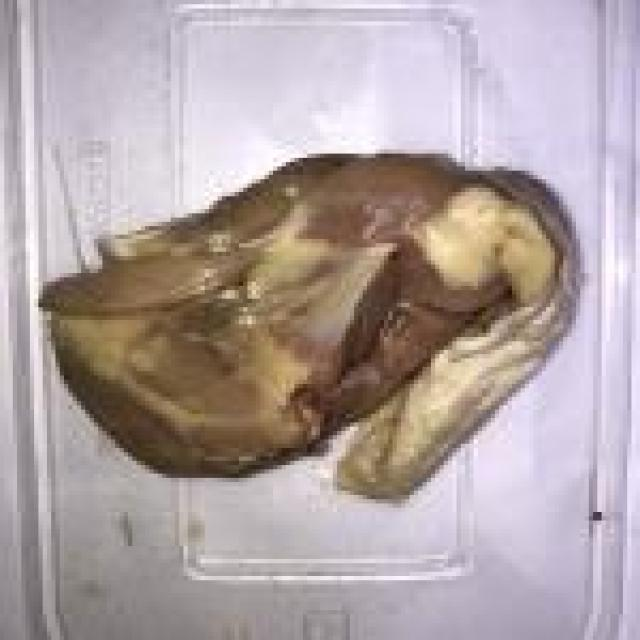breast: (41, 127, 570, 532)
